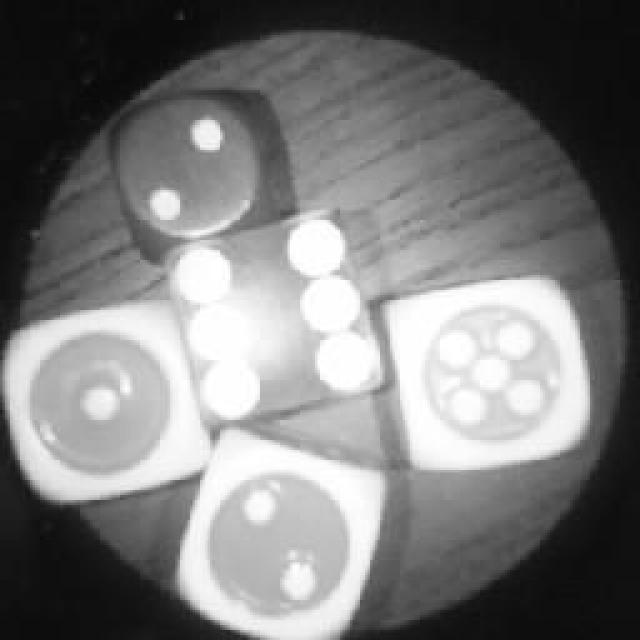dice_1: (0, 287, 222, 514)
dice_2: (172, 425, 390, 640), (100, 78, 285, 258)
dice_5: (378, 270, 600, 480)
dice_6: (160, 205, 392, 433)
